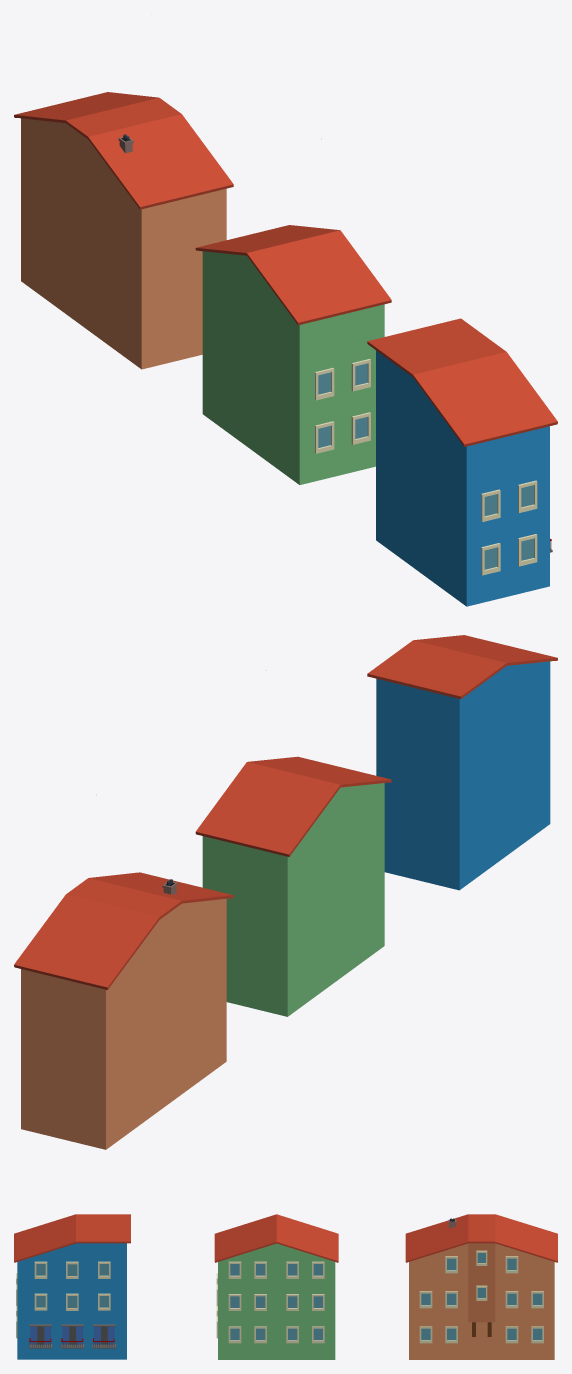
Rendered from prototype house venice.fbx.
3 views of the same model, one above another, from view 1: azimuth 30°, elevation 25°; view 2: azimuth 150°, elevation 25°; view 3: azimuth 270°, elevation 25° (orthographic). The views are drawn at different scales.
Parts seen in each view (by area): view 1: Cube, Cube.001, Cube.002; view 2: Cube, Cube.001, Cube.002; view 3: Cube, Cube.002, Cube.001, Balcony.001.
Part boxes in pixels (x1,y1,x2,y2): Cube: [14, 14, 233, 369]; Cube.001: [321, 138, 557, 606]; Cube.002: [195, 225, 391, 484]; Cube: [14, 794, 233, 1149]; Cube.001: [265, 635, 557, 890]; Cube.002: [195, 756, 391, 1016]; Cube: [405, 1178, 557, 1359]; Cube.002: [214, 1214, 338, 1359]; Cube.001: [14, 1214, 130, 1359]; Balcony.001: [29, 1324, 115, 1348].
Bounding box in the file's own units: 237 × 660 × 1833.
